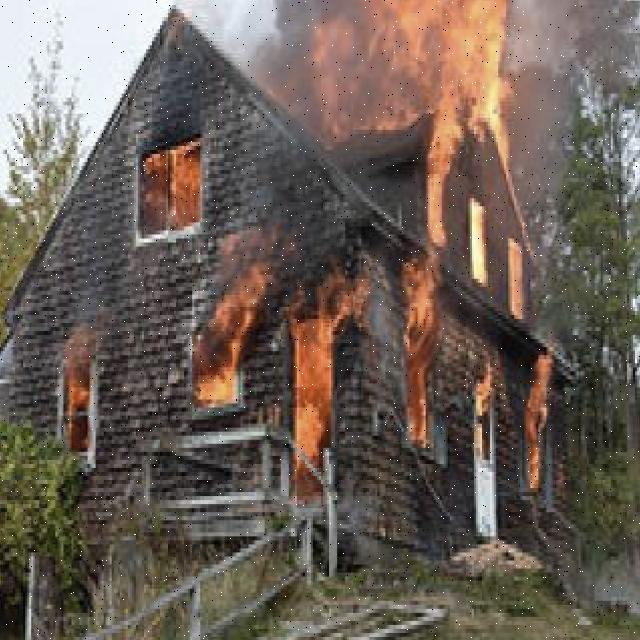fire: (400, 0, 506, 198), (393, 269, 438, 452), (293, 315, 333, 446), (188, 321, 243, 412), (522, 357, 554, 498), (321, 271, 377, 341), (216, 263, 273, 327), (170, 134, 200, 206), (504, 242, 526, 317), (64, 359, 90, 420), (468, 367, 496, 418), (466, 208, 484, 277)
smoke: (509, 0, 627, 210), (254, 0, 406, 152)
